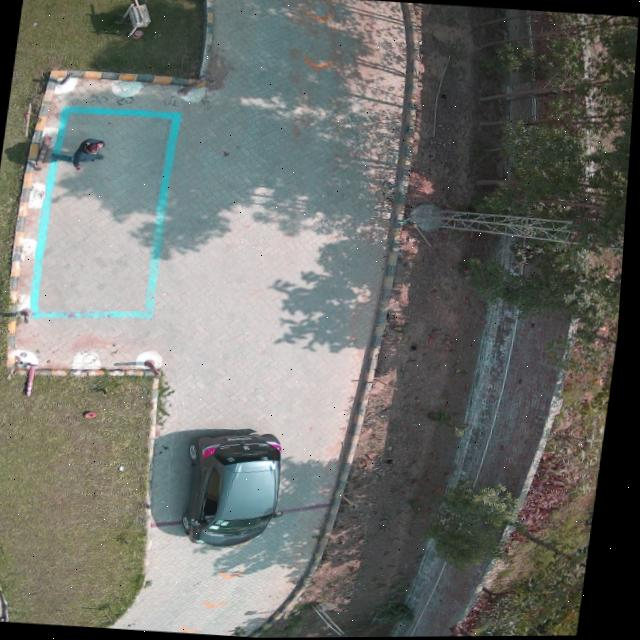car: (187, 432, 290, 549)
